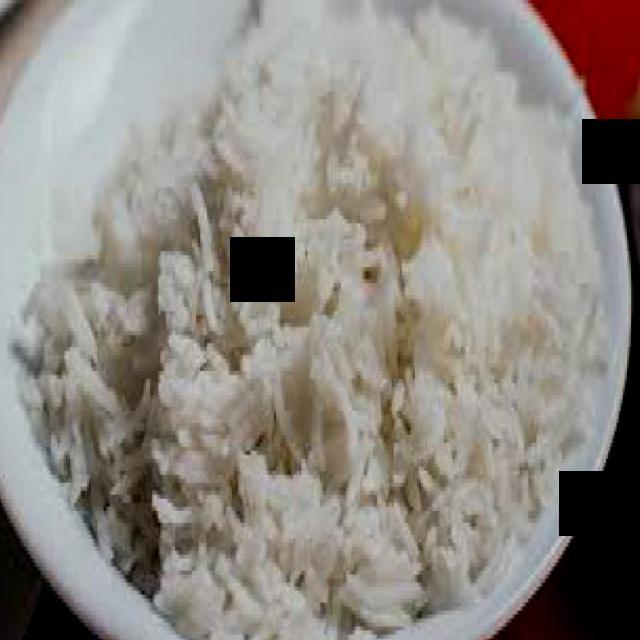rice: (14, 1, 610, 640)
